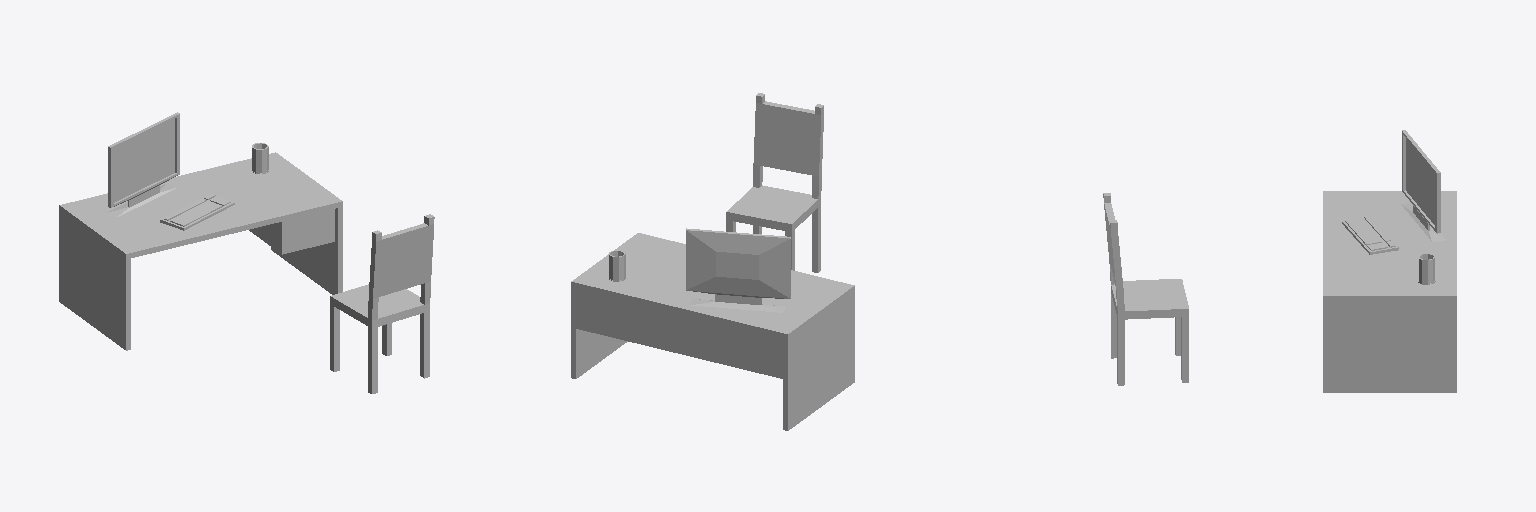
The model's file is Escritorio.obj.
The picture shows the model from 3 angles: view 1: azimuth 30°, elevation 25°; view 2: azimuth 150°, elevation 25°; view 3: azimuth 270°, elevation 25°; orthographic projection.
Parts seen in each view (by area): view 1: Cubo.001, Cubo.006, Cubo.004, Cubo.005; view 2: Cubo.001, Cubo.006, Cubo.004; view 3: Cubo.001, Cubo.006, Cubo.004, Cubo.005.
Part boxes in pixels (x1,y1,x2,y2): Cubo.001: (59, 152, 342, 350); Cubo.006: (330, 214, 434, 393); Cubo.004: (105, 112, 179, 217); Cubo.005: (160, 194, 234, 230); Cubo.001: (571, 233, 854, 430); Cubo.006: (726, 93, 823, 272); Cubo.004: (686, 228, 790, 312); Cubo.001: (1323, 191, 1456, 392); Cubo.006: (1103, 193, 1188, 385); Cubo.004: (1401, 130, 1446, 241); Cubo.005: (1342, 216, 1398, 254).
Size of the model in its own units: 1.87 by 1.39 by 2.64.